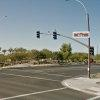Traffic light: (26, 24, 71, 53)
